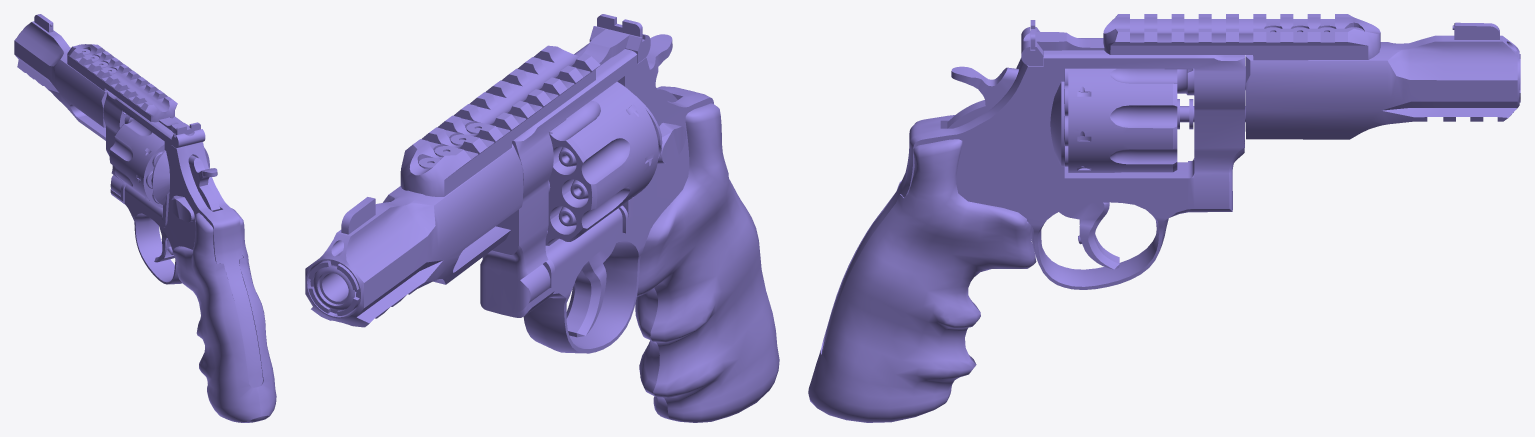
The model's file is revolver_sketchfab.fbx.
3 renders of one model, left to right at view 1: azimuth 30°, elevation 25°; view 2: azimuth 150°, elevation 25°; view 3: azimuth 270°, elevation 25°, orthographic. The views are drawn at different scales.
Visible parts, largest first — view 1: Frame_low, Grip_low, Barrel_low, Rail_low, Cylinder_low, Hammer_low, Rearsight_low, Release_low, Crane_low, Trigger_low; view 2: Grip_low, Frame_low, Barrel_low, Rail_low, Cylinder_low, Crane_low, Trigger_low, Rearsight_low, Barrel_cylinder_low, Hammer_low, Barrel_cylinder_piece_low, Release_low (+4 smaller); view 3: Grip_low, Frame_low, Barrel_low, Cylinder_low, Rail_low, Hammer_low, Trigger_low, Rearsight_low, Frontsight_low.
Boxes of the visible parts, left/top/right/bottom form: Frame_low: left=103, top=91, right=262, bottom=387; Grip_low: left=172, top=208, right=276, bottom=422; Barrel_low: left=14, top=21, right=108, bottom=140; Rail_low: left=67, top=44, right=177, bottom=122; Cylinder_low: left=109, top=119, right=209, bottom=208; Hammer_low: left=188, top=155, right=220, bottom=211; Rearsight_low: left=159, top=117, right=205, bottom=148; Release_low: left=169, top=195, right=194, bottom=222; Crane_low: left=106, top=128, right=123, bottom=195; Trigger_low: left=154, top=227, right=174, bottom=262; Grip_low: left=635, top=103, right=779, bottom=422; Frame_low: left=480, top=43, right=713, bottom=353; Barrel_low: left=305, top=144, right=523, bottom=327; Rail_low: left=400, top=45, right=600, bottom=196; Cylinder_low: left=545, top=81, right=658, bottom=245; Crane_low: left=492, top=185, right=550, bottom=312; Trigger_low: left=566, top=243, right=615, bottom=337; Rearsight_low: left=582, top=26, right=650, bottom=67; Barrel_cylinder_low: left=313, top=266, right=355, bottom=310; Hammer_low: left=646, top=34, right=677, bottom=102; Barrel_cylinder_piece_low: left=308, top=260, right=359, bottom=315; Release_low: left=657, top=122, right=685, bottom=163; Grip_low: left=808, top=139, right=1036, bottom=422; Frame_low: left=822, top=38, right=1245, bottom=353; Barrel_low: left=1245, top=35, right=1519, bottom=139; Cylinder_low: left=1068, top=68, right=1177, bottom=172; Rail_low: left=1103, top=14, right=1380, bottom=60; Hammer_low: left=947, top=66, right=1018, bottom=128; Trigger_low: left=1059, top=202, right=1119, bottom=269; Rearsight_low: left=1021, top=27, right=1104, bottom=65; Frontsight_low: left=1454, top=22, right=1499, bottom=39.
Size of the model in its own units: 4.32 by 15.84 by 26.16.
